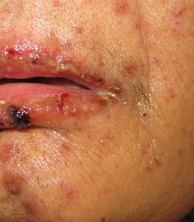SJS-TEN: (0, 43, 126, 134), (0, 140, 79, 221)
